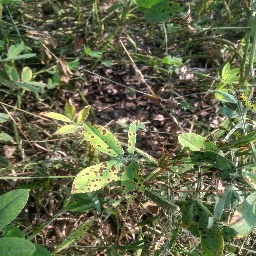GroundNut_Leaf: (67, 160, 123, 196), (79, 121, 126, 159), (1, 187, 34, 229), (231, 190, 255, 243), (36, 94, 75, 124), (181, 196, 211, 234), (176, 128, 222, 151), (1, 236, 39, 254), (128, 118, 140, 158)
